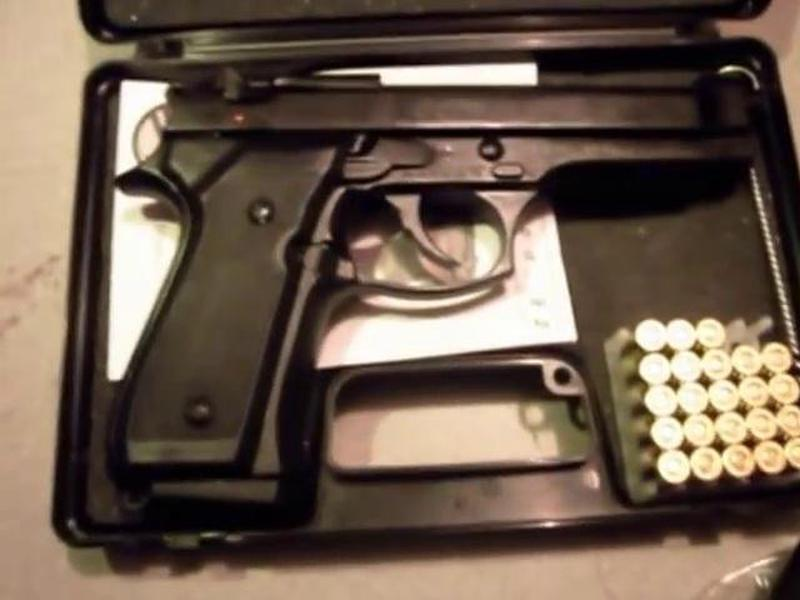Pistola: (111, 69, 747, 516)
